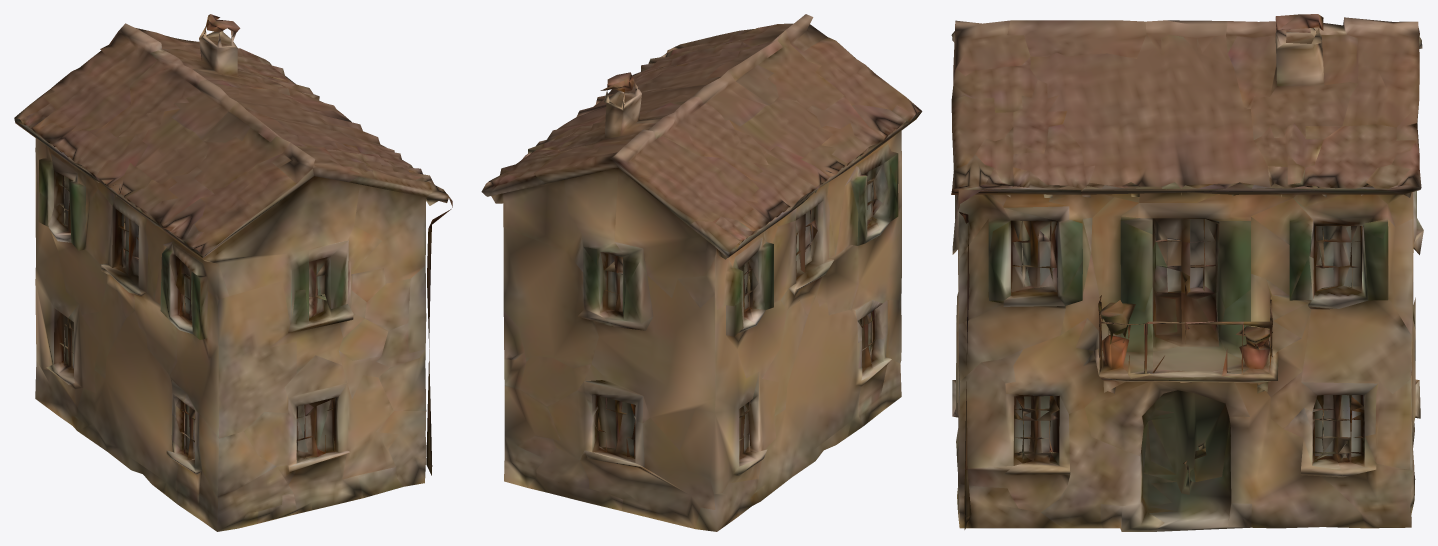
The model's file is house-ochre-lod.glb.
3 views of the same model, side by side, from view 1: azimuth 30°, elevation 25°; view 2: azimuth 150°, elevation 25°; view 3: azimuth 270°, elevation 25° (orthographic). The views are drawn at different scales.
Parts seen in each view (by area): view 1: tripo_node_723d8236-78c2-47cd-aca2-4f931e2b45c5; view 2: tripo_node_723d8236-78c2-47cd-aca2-4f931e2b45c5; view 3: tripo_node_723d8236-78c2-47cd-aca2-4f931e2b45c5.
Boxes of the visible parts, bbox=[...] form: tripo_node_723d8236-78c2-47cd-aca2-4f931e2b45c5: bbox=[14, 14, 452, 531]; tripo_node_723d8236-78c2-47cd-aca2-4f931e2b45c5: bbox=[481, 14, 922, 531]; tripo_node_723d8236-78c2-47cd-aca2-4f931e2b45c5: bbox=[951, 14, 1423, 531].
Bounding box in the file's own units: 0.7518 × 0.9938 × 0.9021.
Materials: 1 (1 with a texture image).
